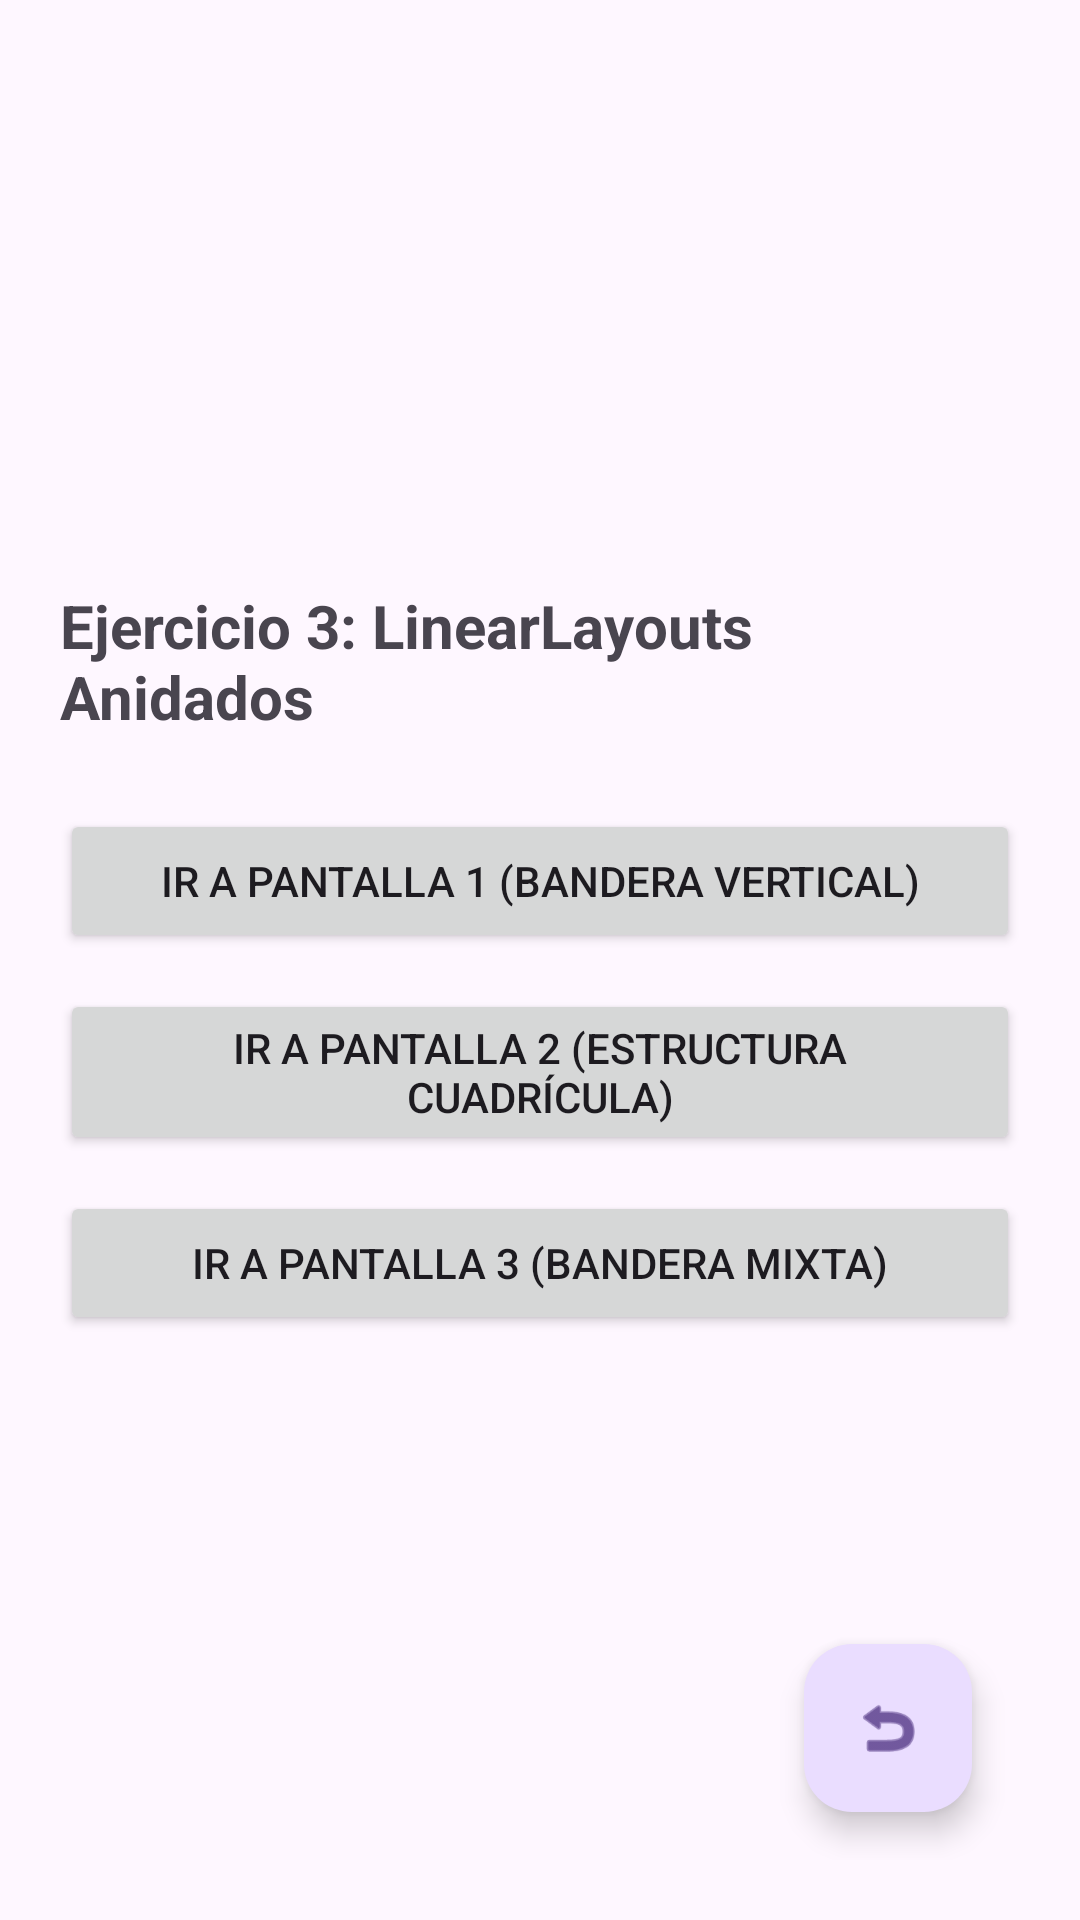

Point at icon controls on the screen. Image size 1080*1920, points as (x,y).
Volver al menú: (888,1728)
